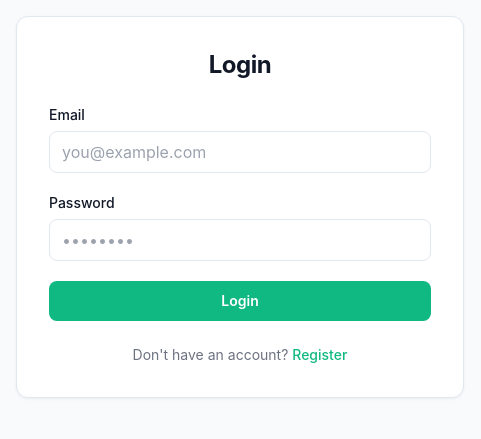
Test case: LoginPage › shows validation error for invalid email
The image size is (481, 439).
Step 1. Type "notanemail" into the field labelled "Email" → (240,152), box [49,131,431,173]
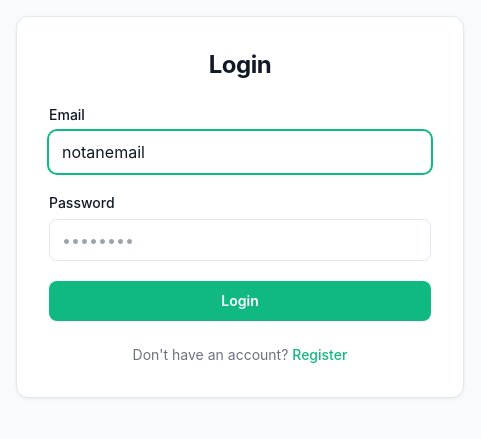
Step 2. Type "password123" into the password field labelled "Password" → (240,240), box [49,219,431,261]
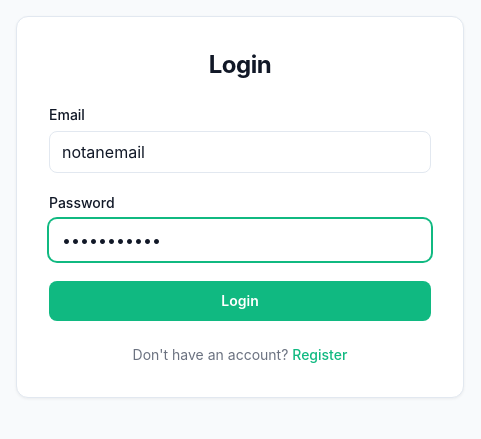
Step 3. Click the button "Login" → (240,301), box [49,281,431,321]
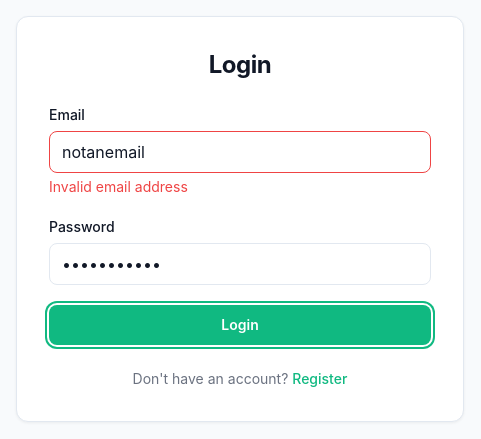
Now the text "Invalid email address" is shown, box [49,178,188,195]
